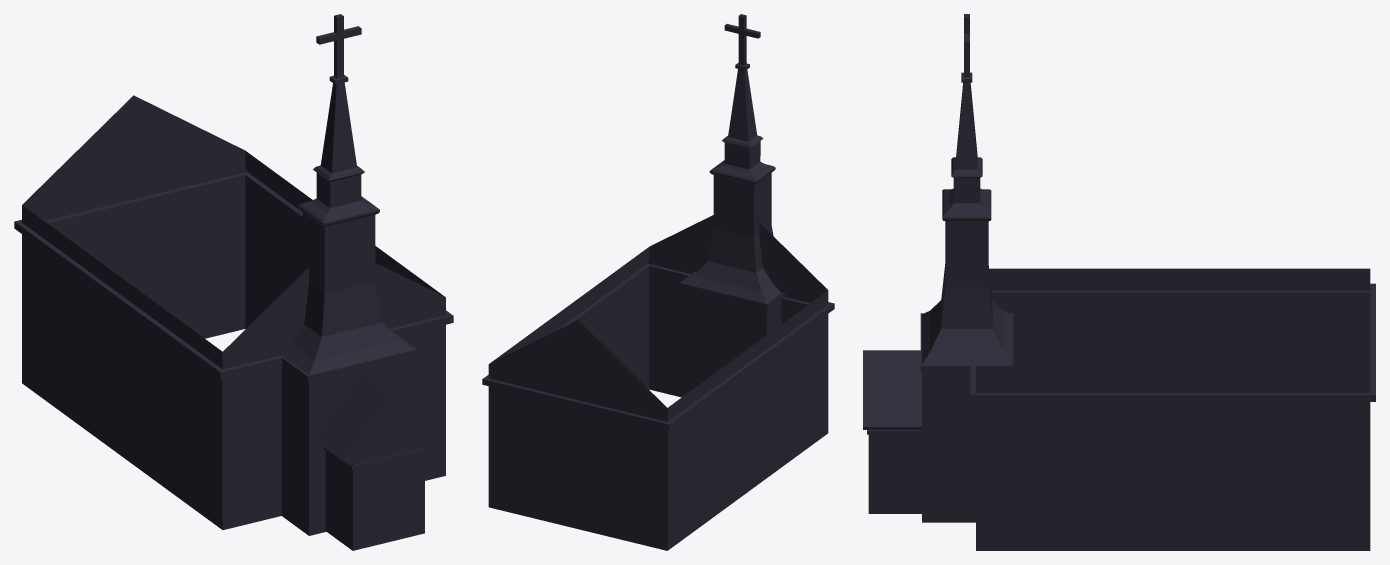
The model's file is Burned_Church.fbx.
3 renders of one model, left to right at view 1: azimuth 30°, elevation 25°; view 2: azimuth 150°, elevation 25°; view 3: azimuth 270°, elevation 25°, orthographic. The views are drawn at different scales.
Visible parts, largest first — view 1: Cube.002; view 2: Cube.002; view 3: Cube.002.
Part boxes in pixels (x1,y1,x2,y2): Cube.002: (14,14,453,550); Cube.002: (482,14,834,550); Cube.002: (863,14,1375,550).
Size of the model in its own units: 978 by 1969 by 1900.
